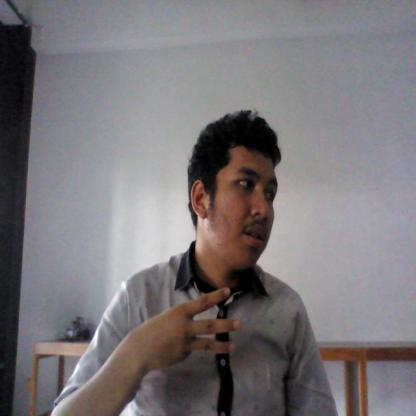E: (150, 284, 244, 368)
